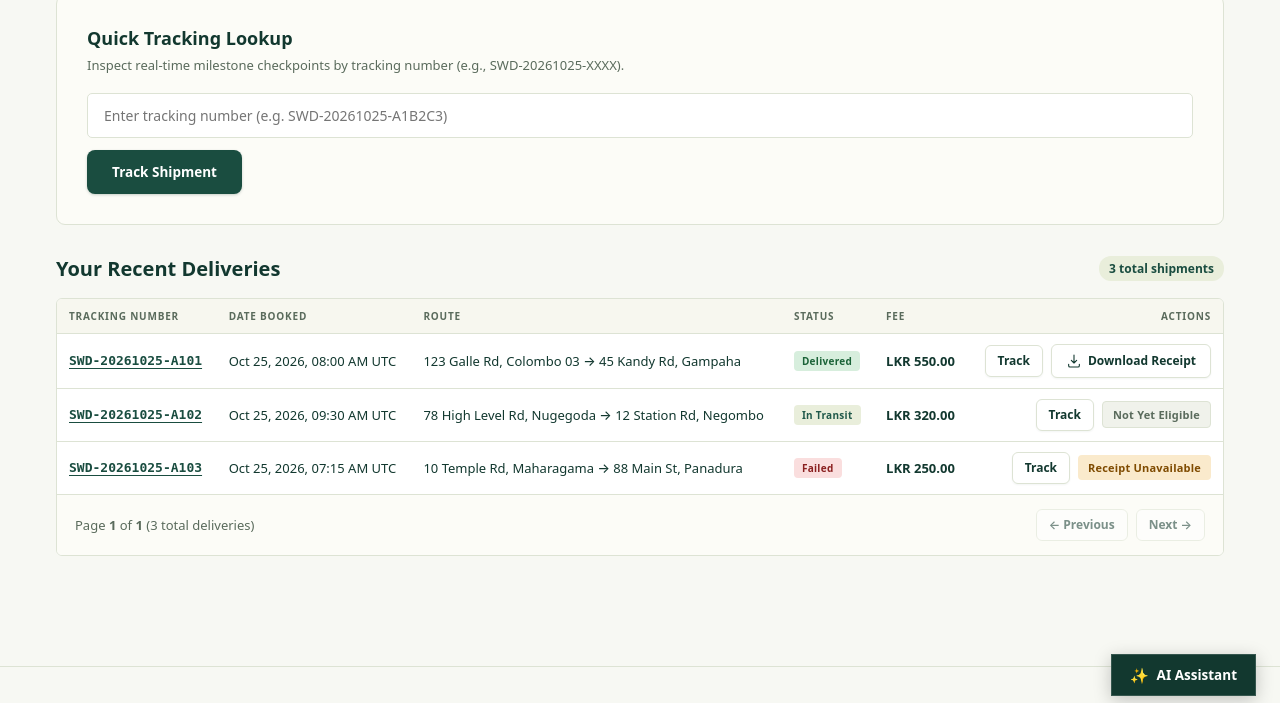
Test: Customer History & Tracking View (Issue #27 / LATER-01) › secure PDF receipt download wiring › handles receipt download 404 Not Found gracefully
(page scrolled)
Click the button with aria-label "download pdf receipt for delivery SWD-20261025-A101": (1131, 361) [1051, 344, 1211, 378]
(page scrolled)
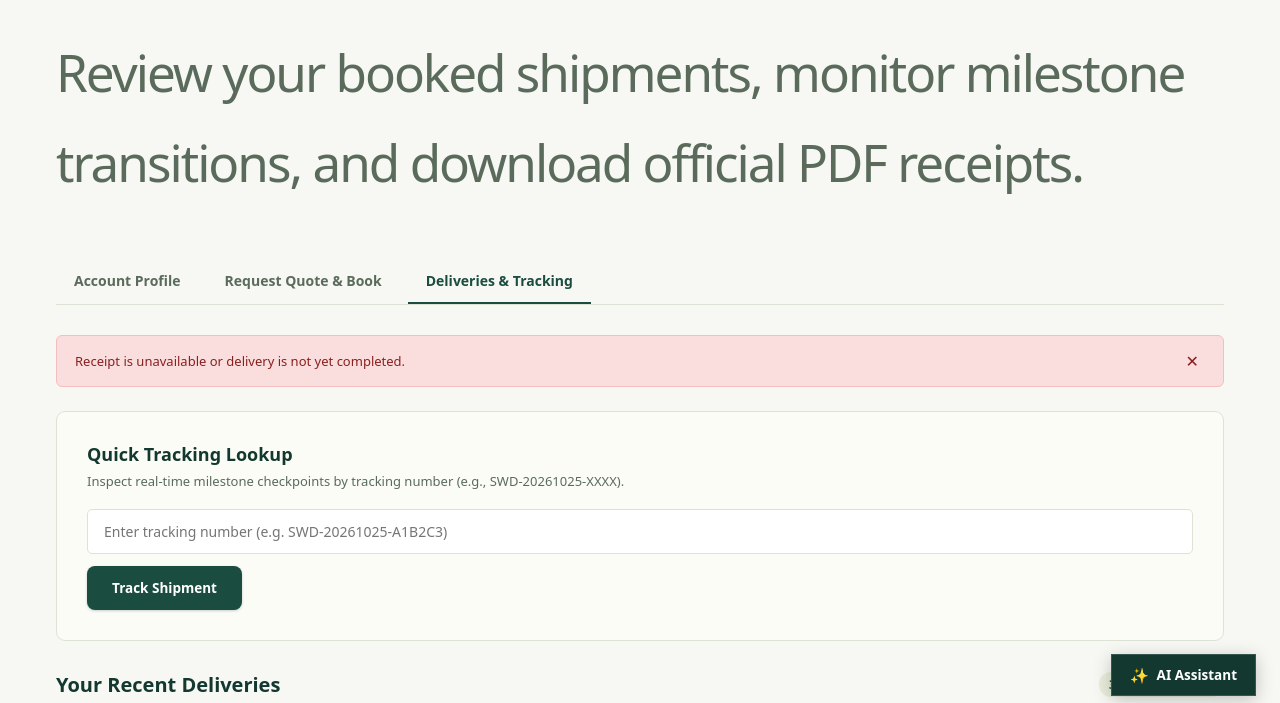
Now the text "Receipt is unavailable or delivery is not yet completed." is shown, box [75, 352, 405, 370]
